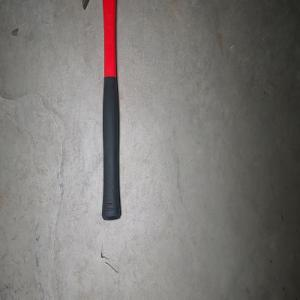Hammer: (80, 0, 140, 221)
